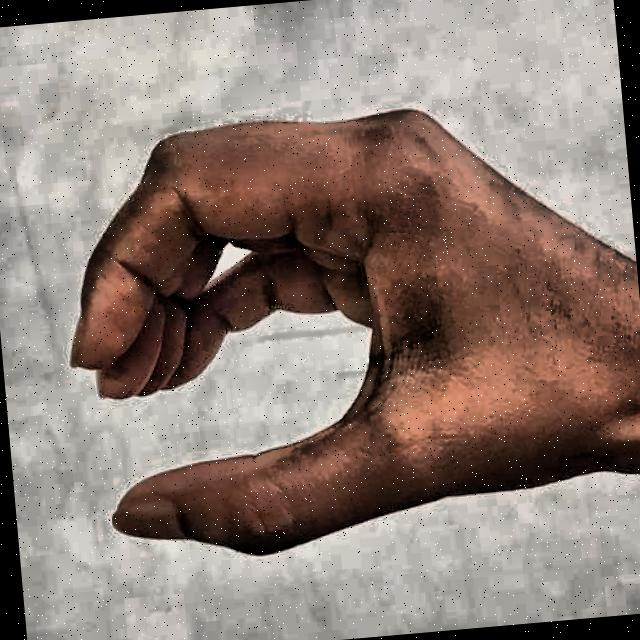Ka: (17, 21, 640, 620)
